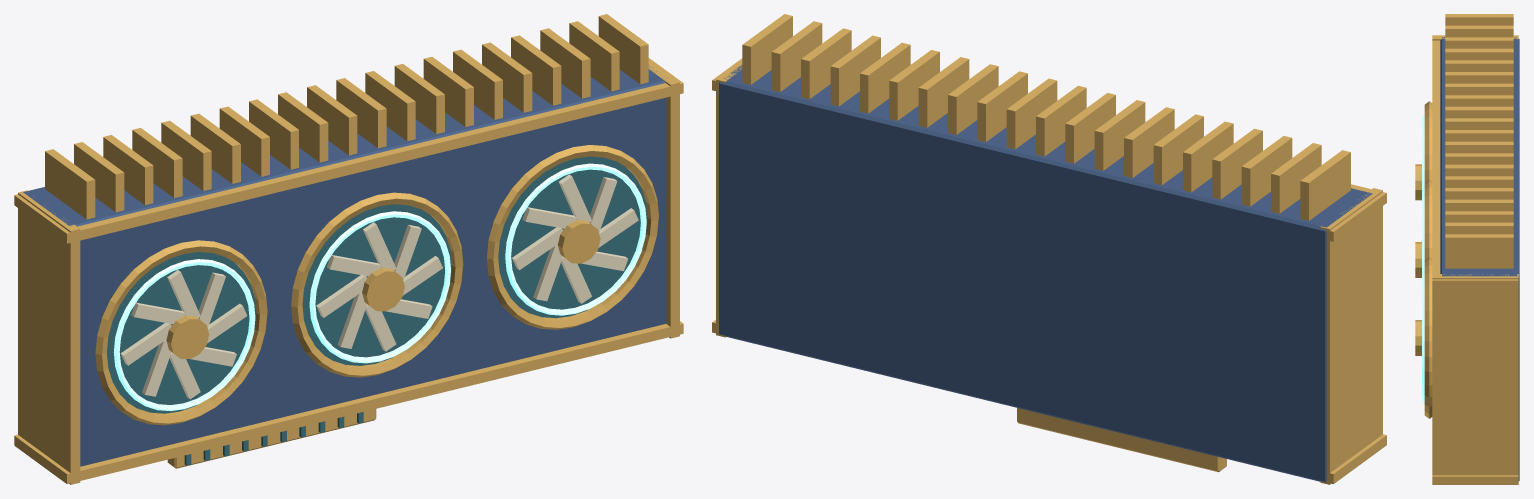
File: d5_divine_gpu.glb
3 views of the same model, side by side, from view 1: azimuth 30°, elevation 25°; view 2: azimuth 150°, elevation 25°; view 3: azimuth 270°, elevation 25° (orthographic). The views are drawn at different scales.
Parts seen in each view (by area): view 1: d5_divine_gpu__d5-gold, d5_divine_gpu__d5-GPU-blue, d5_divine_gpu__d5-inner-teal, d5_divine_gpu__d5-alabaster, d5_divine_gpu__d5-emissive-cyan; view 2: d5_divine_gpu__d5-GPU-blue, d5_divine_gpu__d5-gold; view 3: d5_divine_gpu__d5-gold, d5_divine_gpu__d5-GPU-blue, d5_divine_gpu__d5-emissive-cyan.
Part boxes in pixels (<box>): d5_divine_gpu__d5-gold: <box>14,14,683,484</box>; d5_divine_gpu__d5-GPU-blue: <box>23,65,666,466</box>; d5_divine_gpu__d5-inner-teal: <box>100,156,647,465</box>; d5_divine_gpu__d5-alabaster: <box>120,174,638,399</box>; d5_divine_gpu__d5-emissive-cyan: <box>113,163,646,411</box>; d5_divine_gpu__d5-GPU-blue: <box>719,65,1372,482</box>; d5_divine_gpu__d5-gold: <box>712,14,1386,484</box>; d5_divine_gpu__d5-gold: <box>1415,14,1518,484</box>; d5_divine_gpu__d5-GPU-blue: <box>1440,37,1519,481</box>; d5_divine_gpu__d5-emissive-cyan: <box>1422,115,1424,404</box>.
Bounding box in the file's own units: 45.46 × 22.96 × 8.15.
